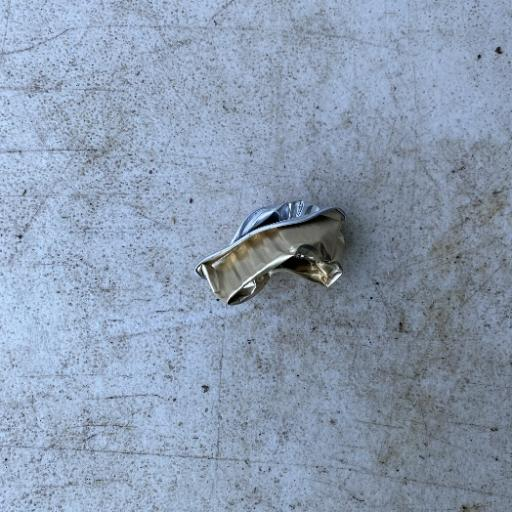Metal: (192, 197, 348, 308)
